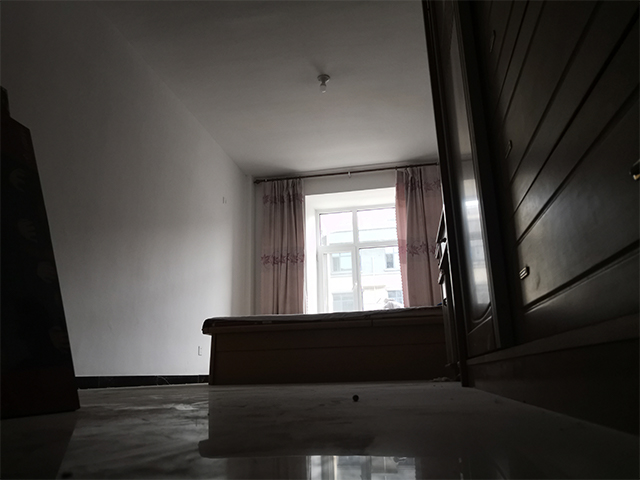bed: (199, 301, 451, 387)
cabinet: (425, 1, 640, 437)
curtain: (392, 163, 444, 303), (256, 176, 306, 316)
